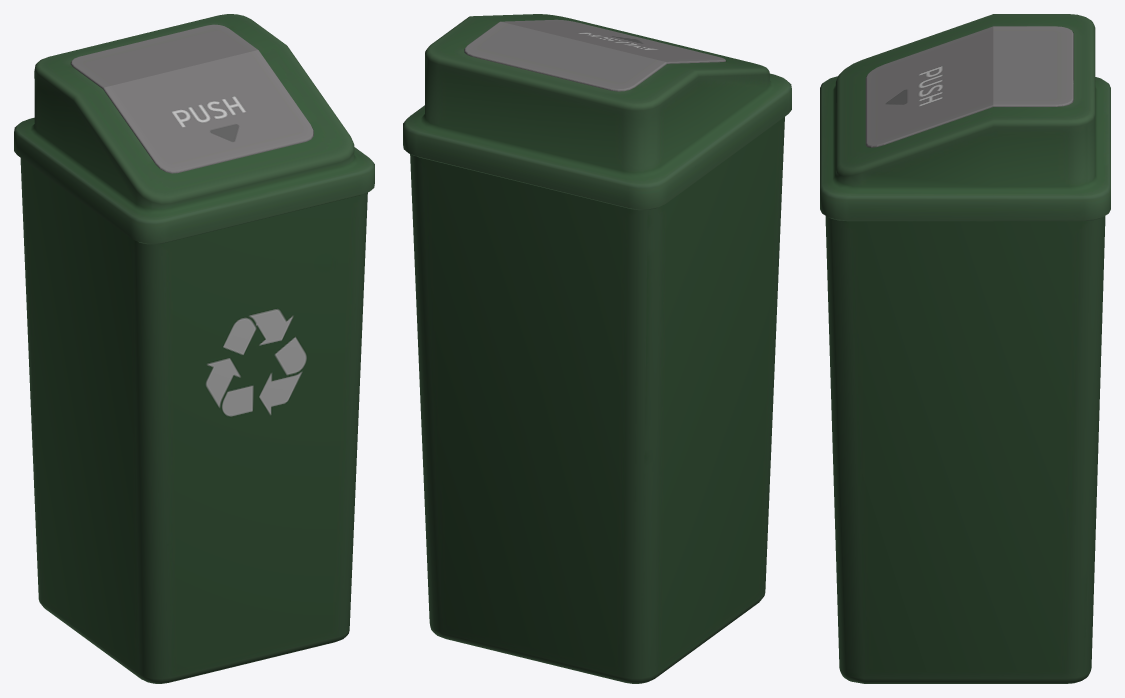
File: Trash Can.fbx
3 views of the same model, side by side, from view 1: azimuth 30°, elevation 25°; view 2: azimuth 150°, elevation 25°; view 3: azimuth 270°, elevation 25° (orthographic). The views are drawn at different scales.
Visible parts, largest first — view 1: model_0, Object001; view 2: model_0, Object001; view 3: model_0, Object001.
Part boxes in pixels (<box>): model_0: <box>14,14,374,683</box>; Object001: <box>71,24,313,173</box>; model_0: <box>403,14,791,683</box>; Object001: <box>464,19,725,91</box>; model_0: <box>820,14,1110,683</box>; Object001: <box>865,26,1073,147</box>.
Bounding box in the file's own units: 21.28 × 45.87 × 21.28.
